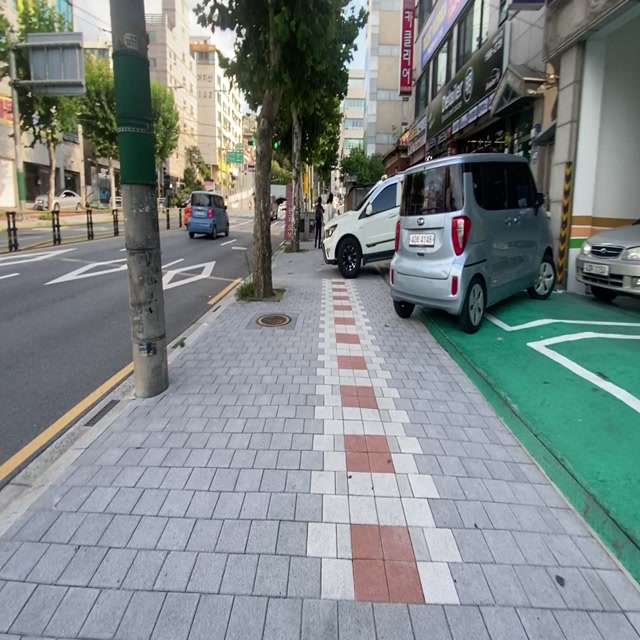Vehicle: (387, 154, 558, 332), (320, 175, 400, 277), (575, 220, 638, 301), (187, 191, 228, 238), (53, 189, 83, 210)
